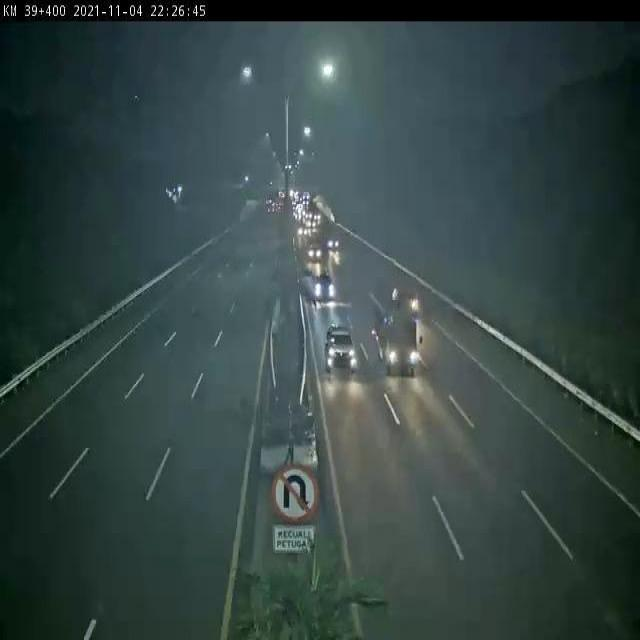car: (325, 322, 358, 374)
